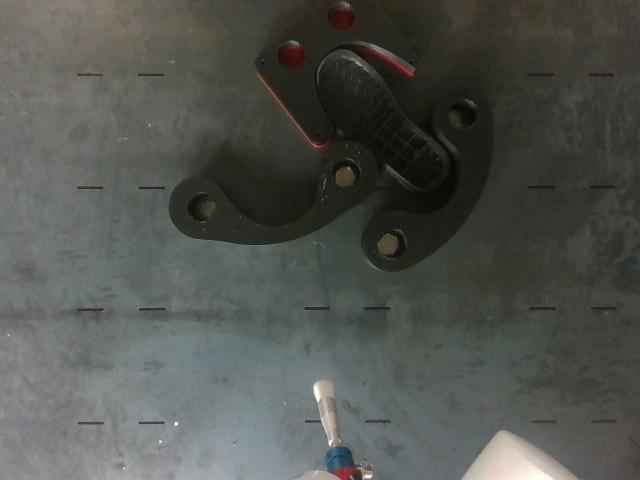shoes: (318, 51, 447, 189)
